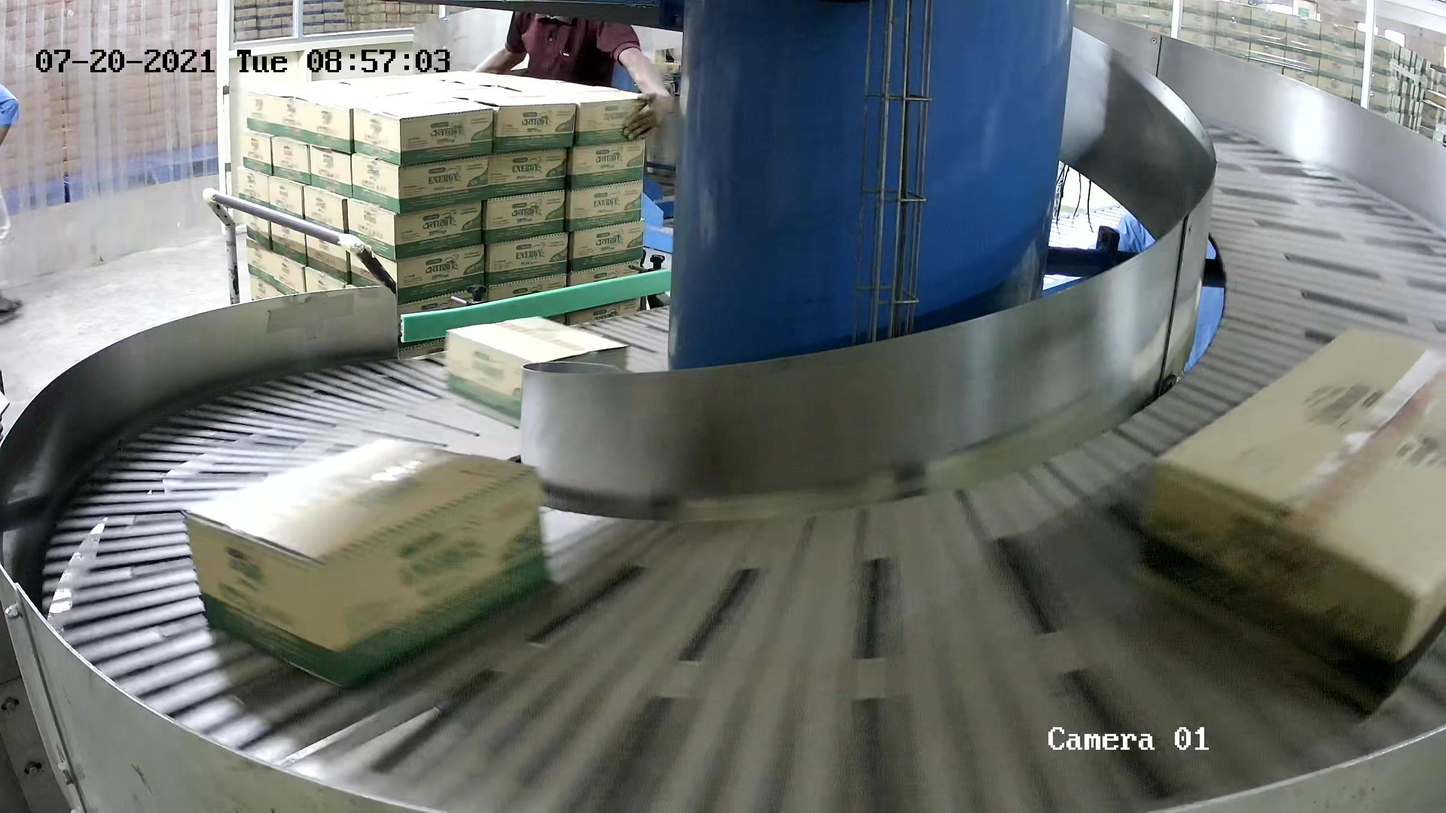Box: (1127, 320, 1446, 722), (180, 434, 549, 690), (445, 316, 629, 420)
